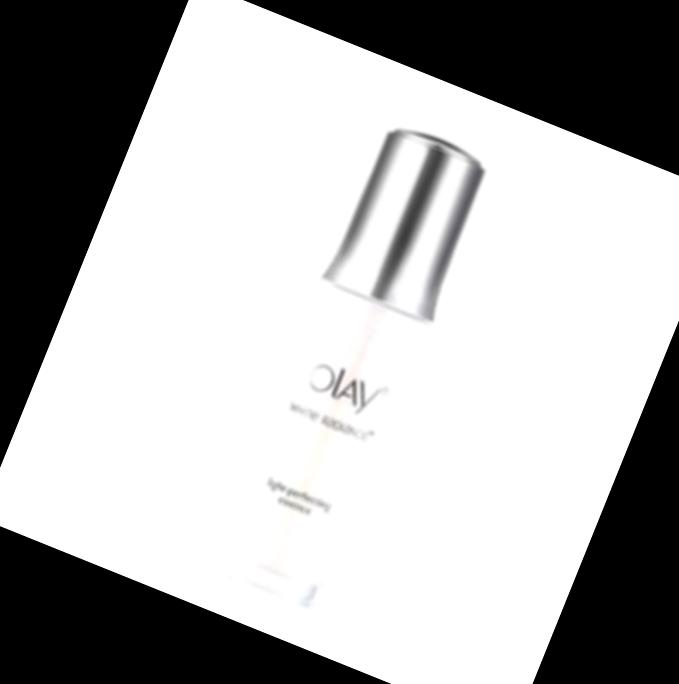cosmetic: (205, 114, 499, 606)
